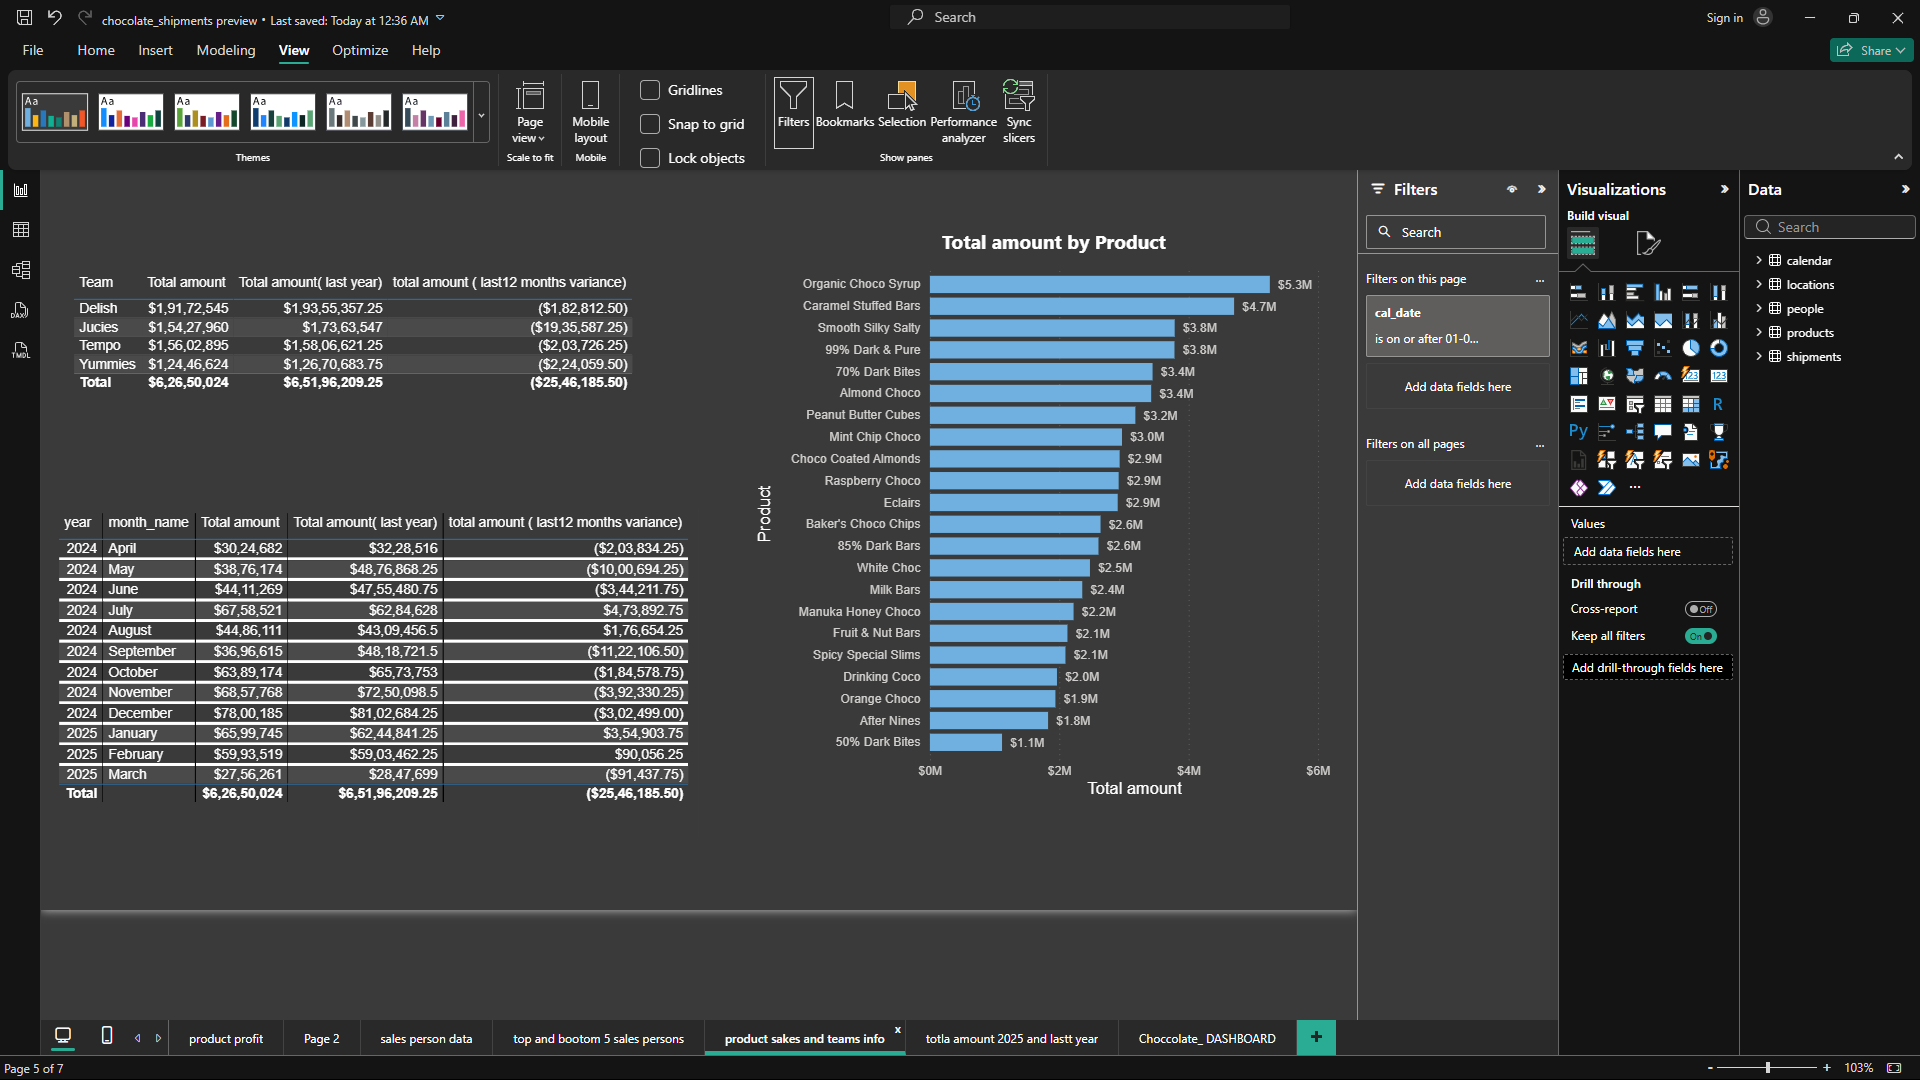

The page's visual inventory and layout, read from the dashboard file:
{"tool":"powerbi","page":{"name":"Page 5","canvas":[1280,720],"ordinal":4},"visuals":[{"type":"tableEx","fields":{"Values":["people.Team","shipments.Total amount","shipments.Total amount( last year)","shipments.total amount ( last12 months variance)"]},"box":[26.3,95.3,590.4,161.5],"z":0},{"type":"clusteredBarChart","fields":{"Category":["products.Product"],"Y":["shipments.Total amount"]},"box":[690.5,0,589.5,558.2],"z":1000},{"type":"tableEx","fields":{"Values":["calendar.year","calendar.month_name","shipments.Total amount","shipments.Total amount( last year)","shipments.total amount ( last12 months variance)"]},"box":[11.7,328.8,628.3,320],"z":2000}]}

Visuals, with their boxes on the page's 1280x720 design canvas (x1, y1, x2, y2). These are canvas units, not pixel positions in the 1920x1080 screenshot, which may show the page scaled, cropped or inside an application window:
tableEx - people.Team x shipments.Total amount: (26, 95, 617, 257)
clusteredBarChart - products.Product x shipments.Total amount: (690, 0, 1280, 558)
tableEx - calendar.year x calendar.month_name: (12, 329, 640, 649)
